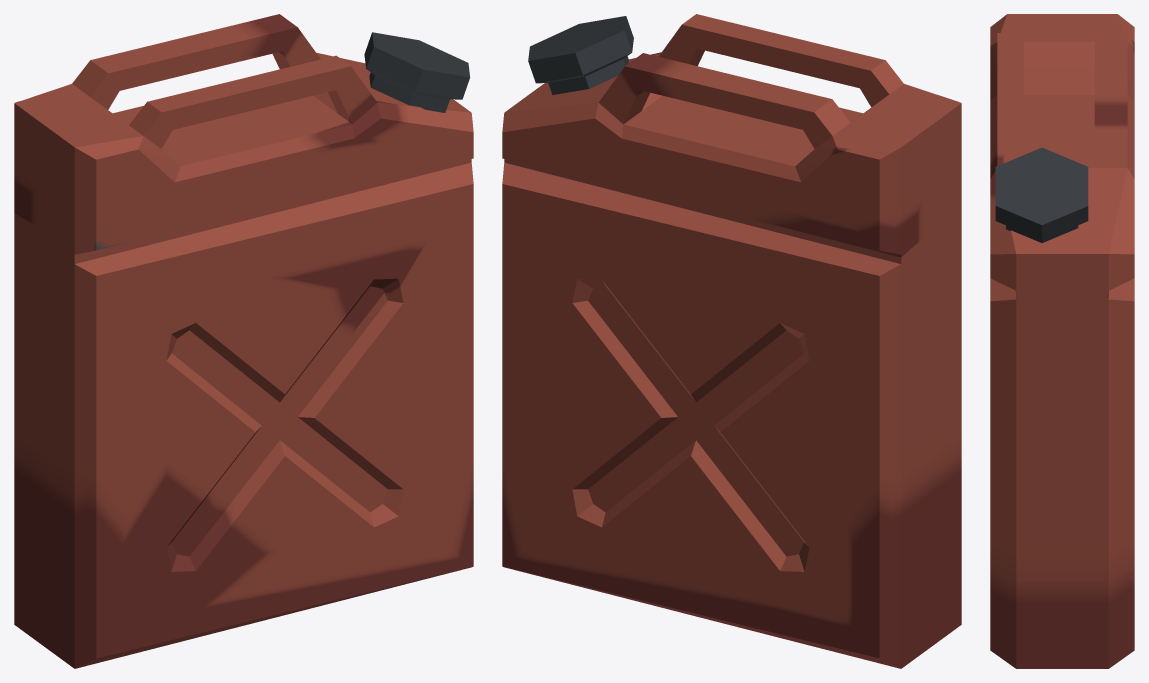
File: SM_Prop_GasCan_01.obj
The picture shows the model from 3 angles, left to right: view 1: azimuth 30°, elevation 25°; view 2: azimuth 150°, elevation 25°; view 3: azimuth 270°, elevation 25°; orthographic projection. The views are drawn at different scales.
Parts seen in each view (by area): view 1: SM_Prop_GasCan_01_0; view 2: SM_Prop_GasCan_01_0; view 3: SM_Prop_GasCan_01_0.
Boxes of the visible parts, bbox=[...] form: SM_Prop_GasCan_01_0: bbox=[14, 14, 473, 668]; SM_Prop_GasCan_01_0: bbox=[502, 14, 961, 668]; SM_Prop_GasCan_01_0: bbox=[990, 14, 1134, 668].
Bounding box in the file's own units: 0.4032 × 0.5047 × 0.1338.
1 material, 1 textured.
